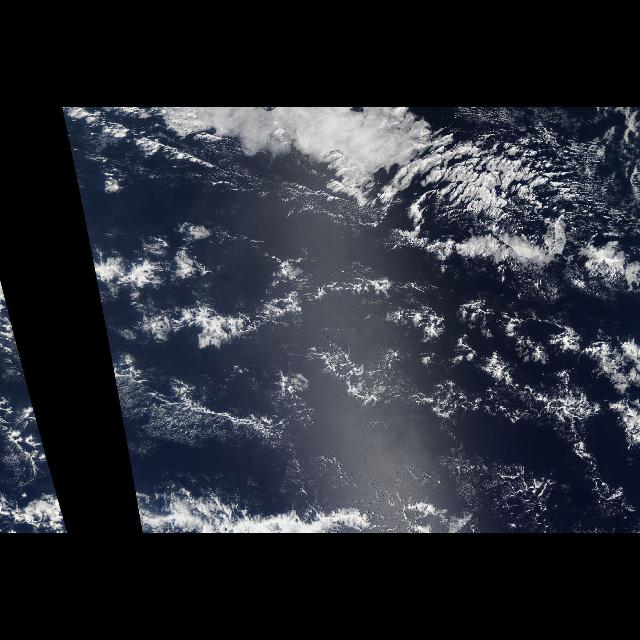Fish: (141, 267, 395, 349)
Gravel: (152, 240, 632, 432)
